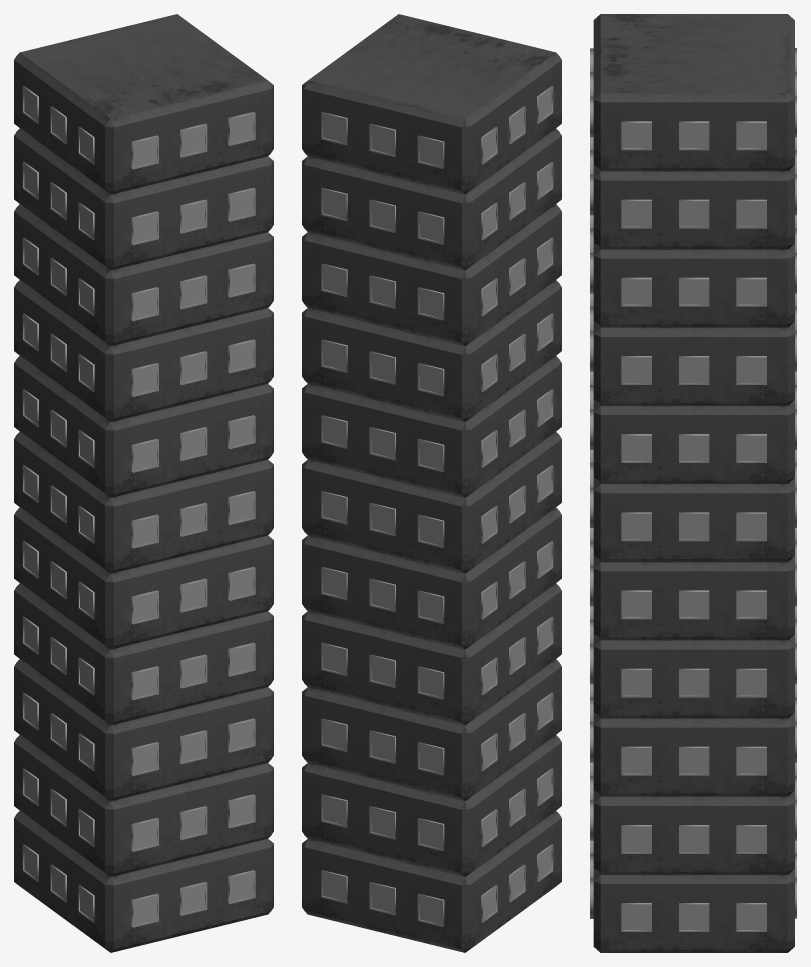
Rendered from obj_buildblocks_new.FBX.
3 renders of one model, left to right at view 1: azimuth 30°, elevation 25°; view 2: azimuth 150°, elevation 25°; view 3: azimuth 270°, elevation 25°, orthographic. The views are drawn at different scales.
Parts seen in each view (by area): view 1: obj_buildblock_new011, obj_buildblock_new003, obj_buildblock_new008, obj_buildblock_new004, obj_buildblock_new007, obj_buildblock_new010, obj_buildblock_new006, obj_buildblock_new009, obj_buildblock_new005, obj_buildblock_new002, obj_buildblock_new001, Rectangle061 (+10 smaller); view 2: obj_buildblock_new011, obj_buildblock_new008, obj_buildblock_new004, obj_buildblock_new005, obj_buildblock_new001, obj_buildblock_new003, obj_buildblock_new009, obj_buildblock_new002, obj_buildblock_new007, obj_buildblock_new010, obj_buildblock_new006, Rectangle055 (+10 smaller); view 3: obj_buildblock_new011, obj_buildblock_new003, obj_buildblock_new009, obj_buildblock_new005, obj_buildblock_new006, obj_buildblock_new004, obj_buildblock_new010, obj_buildblock_new002, obj_buildblock_new008, obj_buildblock_new001, obj_buildblock_new007, Rectangle065 (+10 smaller).
Boxes of the visible parts, box(x1,y1,x2,y2) form: obj_buildblock_new011: box(14, 14, 273, 194); obj_buildblock_new003: box(14, 659, 273, 801); obj_buildblock_new008: box(14, 280, 273, 421); obj_buildblock_new004: box(14, 583, 273, 725); obj_buildblock_new007: box(14, 356, 273, 497); obj_buildblock_new010: box(14, 128, 273, 270); obj_buildblock_new006: box(14, 432, 273, 573); obj_buildblock_new009: box(14, 204, 273, 346); obj_buildblock_new005: box(14, 507, 273, 649); obj_buildblock_new002: box(14, 735, 273, 876); obj_buildblock_new001: box(14, 811, 273, 952); Rectangle061: box(22, 389, 255, 472); obj_buildblock_new011: box(302, 14, 561, 194); obj_buildblock_new008: box(302, 280, 561, 421); obj_buildblock_new004: box(302, 583, 561, 725); obj_buildblock_new005: box(302, 507, 561, 649); obj_buildblock_new001: box(302, 811, 561, 952); obj_buildblock_new003: box(302, 659, 561, 801); obj_buildblock_new009: box(302, 204, 561, 346); obj_buildblock_new002: box(302, 735, 561, 876); obj_buildblock_new007: box(302, 356, 561, 497); obj_buildblock_new010: box(302, 128, 561, 270); obj_buildblock_new006: box(302, 432, 561, 573); Rectangle055: box(321, 844, 553, 927); obj_buildblock_new011: box(593, 14, 794, 171); obj_buildblock_new003: box(593, 712, 794, 796); obj_buildblock_new009: box(593, 243, 794, 327); obj_buildblock_new005: box(593, 556, 794, 640); obj_buildblock_new006: box(593, 478, 794, 562); obj_buildblock_new004: box(593, 634, 794, 718); obj_buildblock_new010: box(593, 165, 794, 249); obj_buildblock_new002: box(593, 790, 794, 874); obj_buildblock_new008: box(593, 321, 794, 405); obj_buildblock_new001: box(593, 869, 794, 952); obj_buildblock_new007: box(593, 400, 794, 483); Rectangle065: box(590, 48, 796, 150).
Size of the model in its own units: 7.19 by 33 by 7.19.
